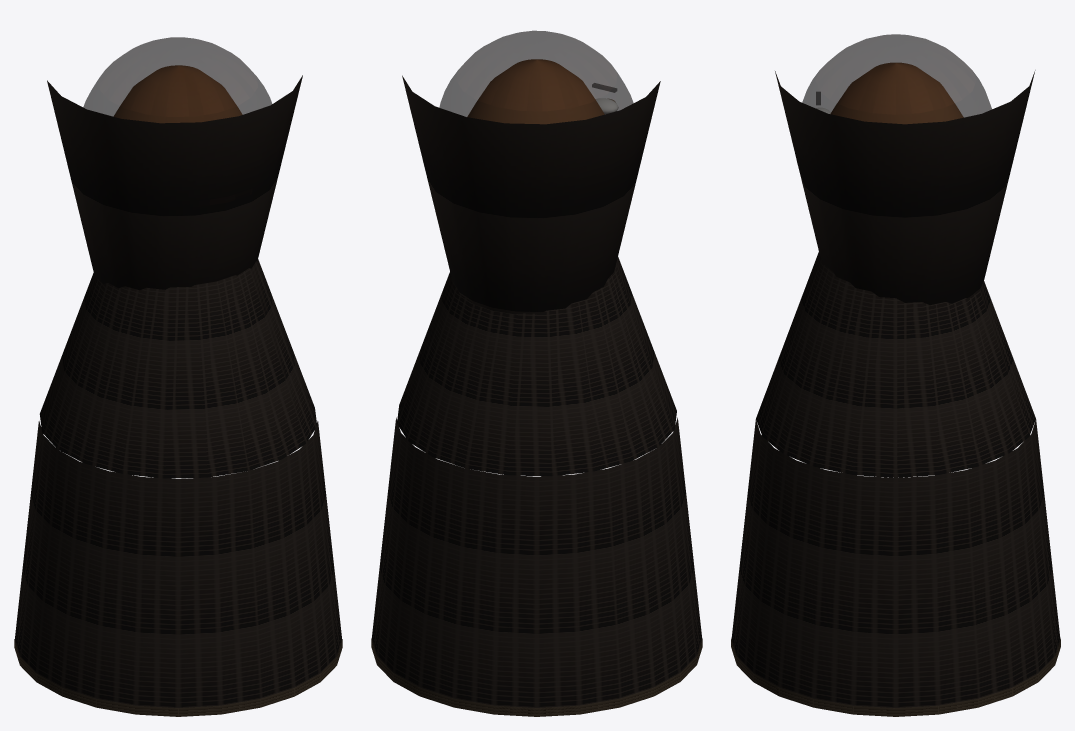
File: trial_rumors.glb
3 views of the same model, side by side, from view 1: azimuth 30°, elevation 25°; view 2: azimuth 150°, elevation 25°; view 3: azimuth 270°, elevation 25° (orthographic).
Visible parts, largest first — view 1: Character_trial_rumors, head; view 2: Character_trial_rumors, head; view 3: Character_trial_rumors, head.
Boxes of the visible parts, box(x1,y1,x2,y2) form: Character_trial_rumors: box(14, 37, 342, 716); head: box(114, 65, 242, 122); Character_trial_rumors: box(371, 30, 702, 716); head: box(467, 59, 604, 123); Character_trial_rumors: box(731, 34, 1060, 716); head: box(831, 63, 963, 123).
Size of the model in its own units: 0.8903 by 1.8 by 0.8903.
Materials: 9 (5 with a texture image).
